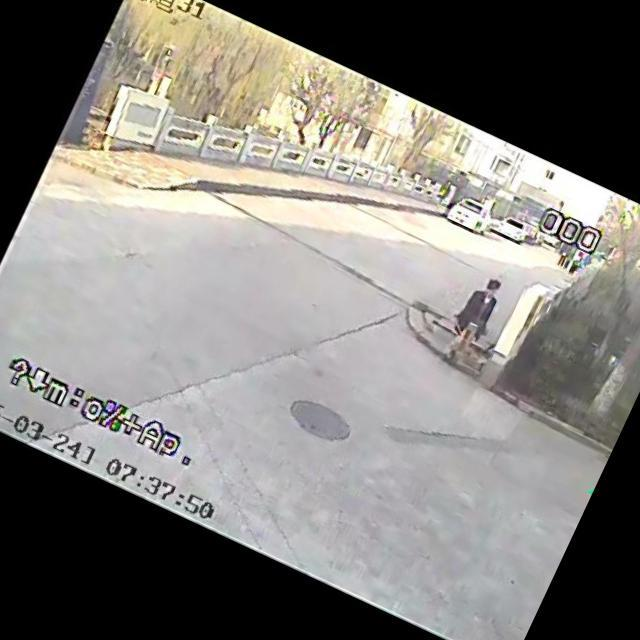person: (429, 264, 514, 382)
